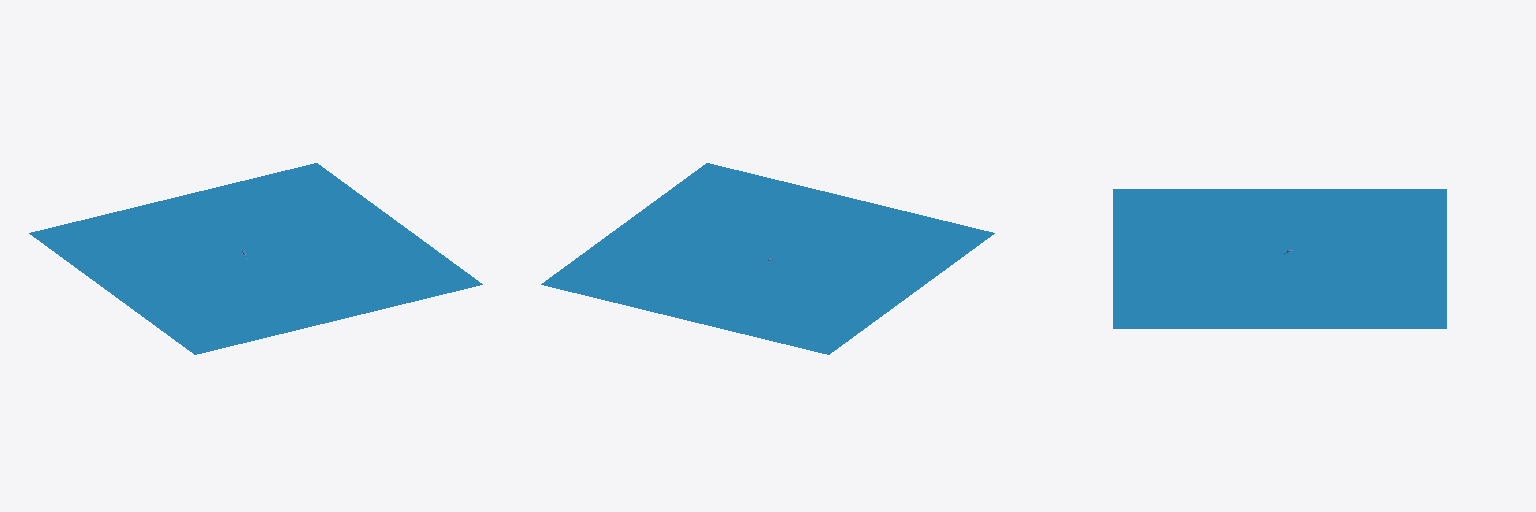
File: dolphin00.obj
The picture shows the model from 3 angles: view 1: azimuth 30°, elevation 25°; view 2: azimuth 150°, elevation 25°; view 3: azimuth 270°, elevation 25°; orthographic projection.
Visible parts, largest first — view 1: Plane; view 2: Plane; view 3: Plane.
Boxes of the visible parts, x1=… form: Plane: x1=29, y1=163, x2=482, y2=354; Plane: x1=541, y1=163, x2=994, y2=354; Plane: x1=1113, y1=189, x2=1446, y2=328.
Size of the model in its own units: 315 by 6.17 by 315.